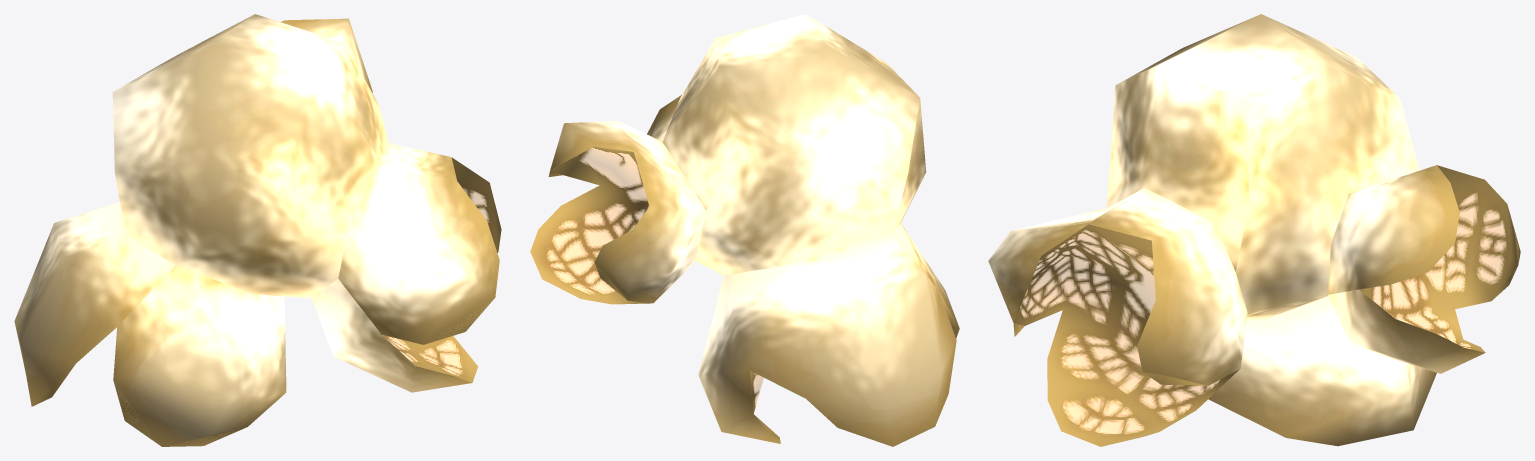
The model's file is popcorn.glb.
The picture shows the model from 3 angles, left to right: view 1: azimuth 30°, elevation 25°; view 2: azimuth 150°, elevation 25°; view 3: azimuth 270°, elevation 25°; orthographic projection. The views are drawn at different scales.
Parts seen in each view (by area): view 1: Object_2; view 2: Object_2; view 3: Object_2.
Boxes of the visible parts, x1,y1,x2,y2 form: Object_2: (14, 14, 501, 446); Object_2: (530, 14, 959, 446); Object_2: (988, 14, 1520, 446).
Size of the model in its own units: 0.2533 by 0.2348 by 0.2763.
Materials: 1 (1 with a texture image).
